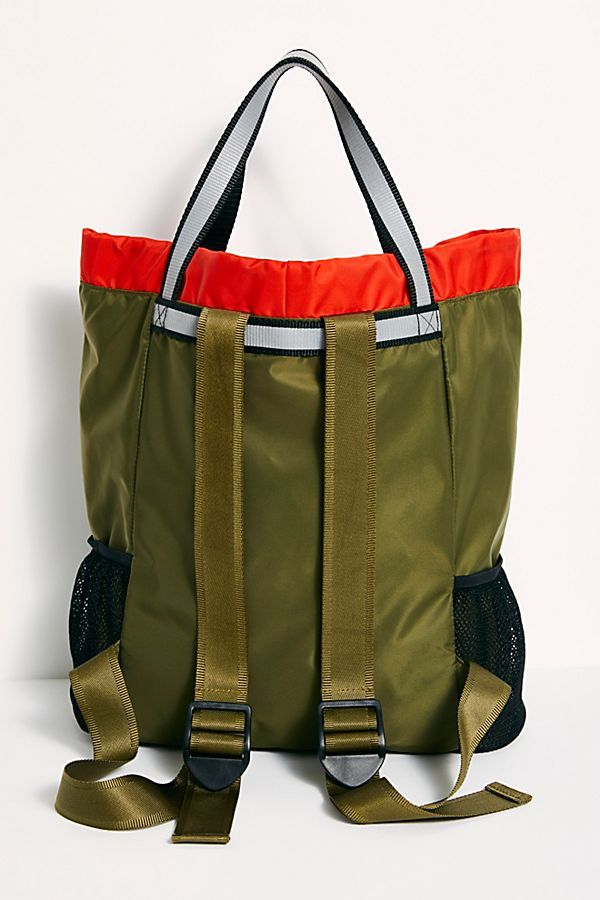nylon: (53, 51, 532, 845)
